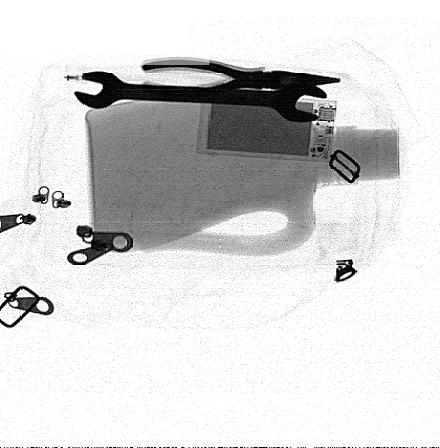Pliers: (136, 58, 343, 101)
Powerbank: (195, 89, 337, 162)
Wrench: (74, 71, 328, 122)
